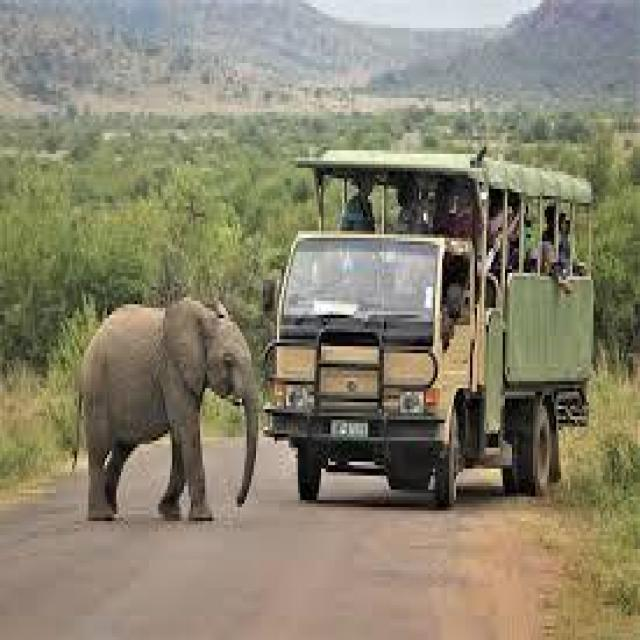Elephant: (68, 286, 254, 524)
